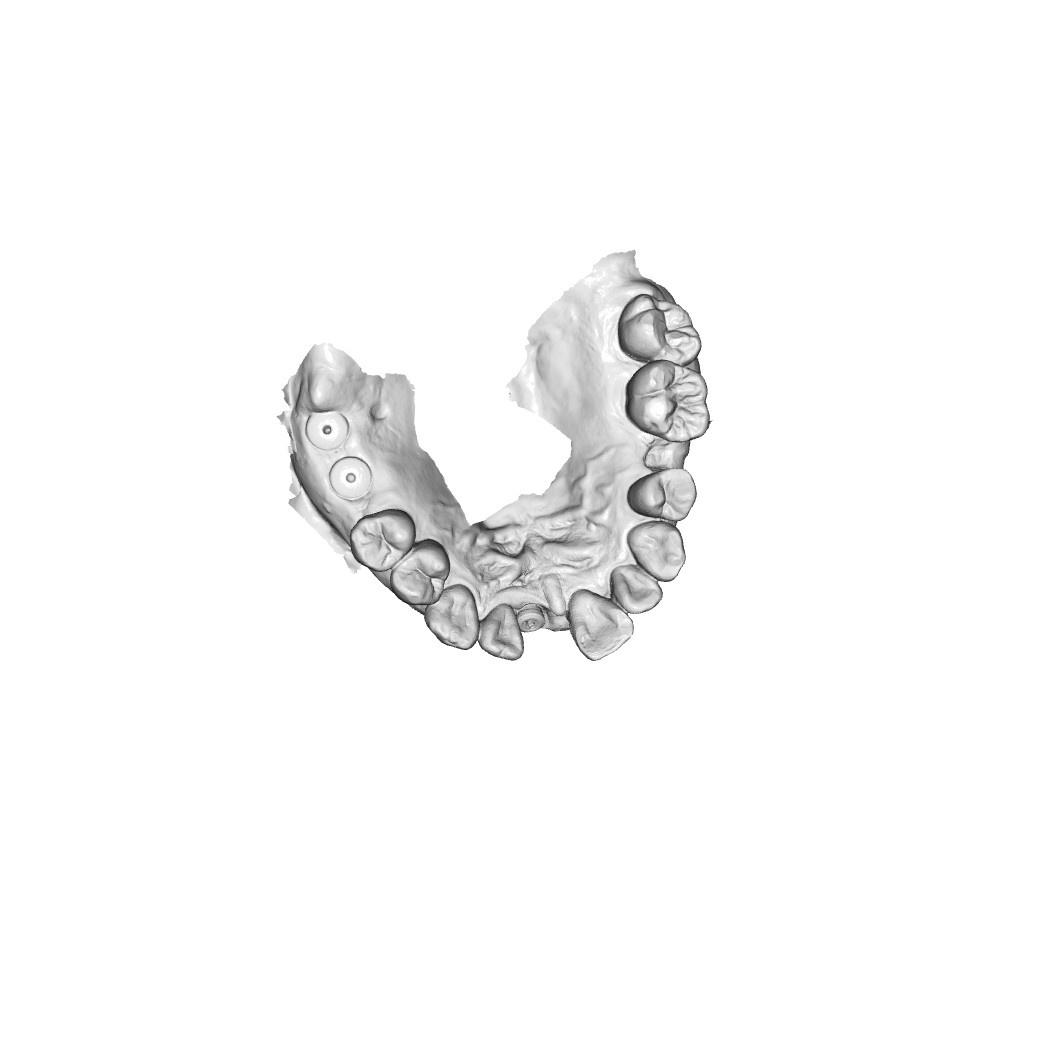canine: (627, 520, 686, 582), (424, 583, 477, 652)
implant: (328, 449, 376, 502), (307, 407, 352, 455)
implant_minus: (517, 602, 549, 636)
incisor: (568, 587, 637, 662), (478, 603, 524, 664), (614, 566, 665, 615)
molar: (623, 359, 712, 444), (617, 293, 702, 363)
premolar: (348, 507, 418, 571), (391, 541, 450, 608), (626, 466, 696, 522)
